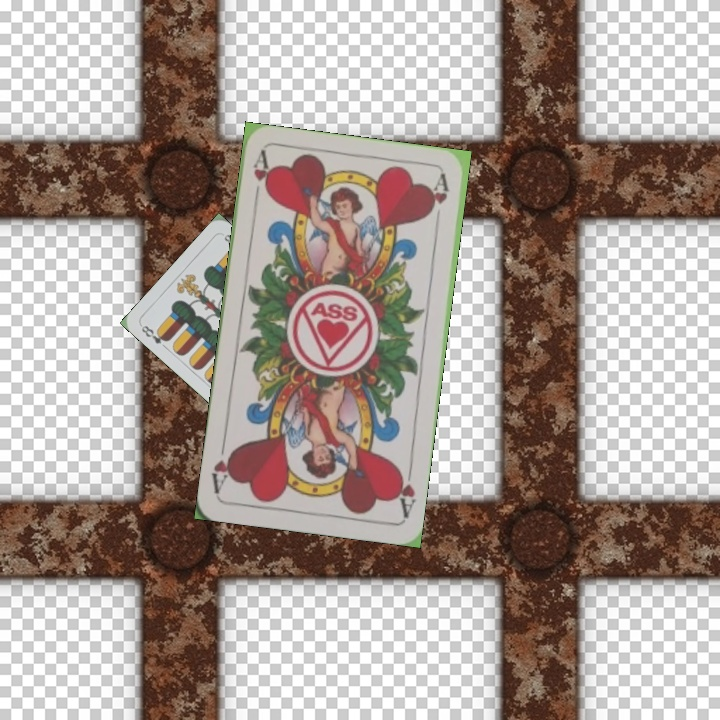E8: (137, 321, 172, 347)
HA: (391, 460, 418, 520), (248, 149, 274, 208)
